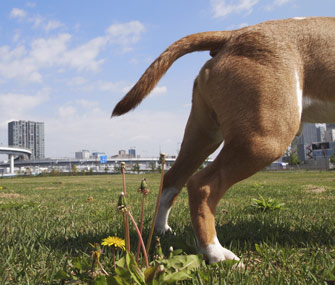tail: (109, 25, 234, 122)
